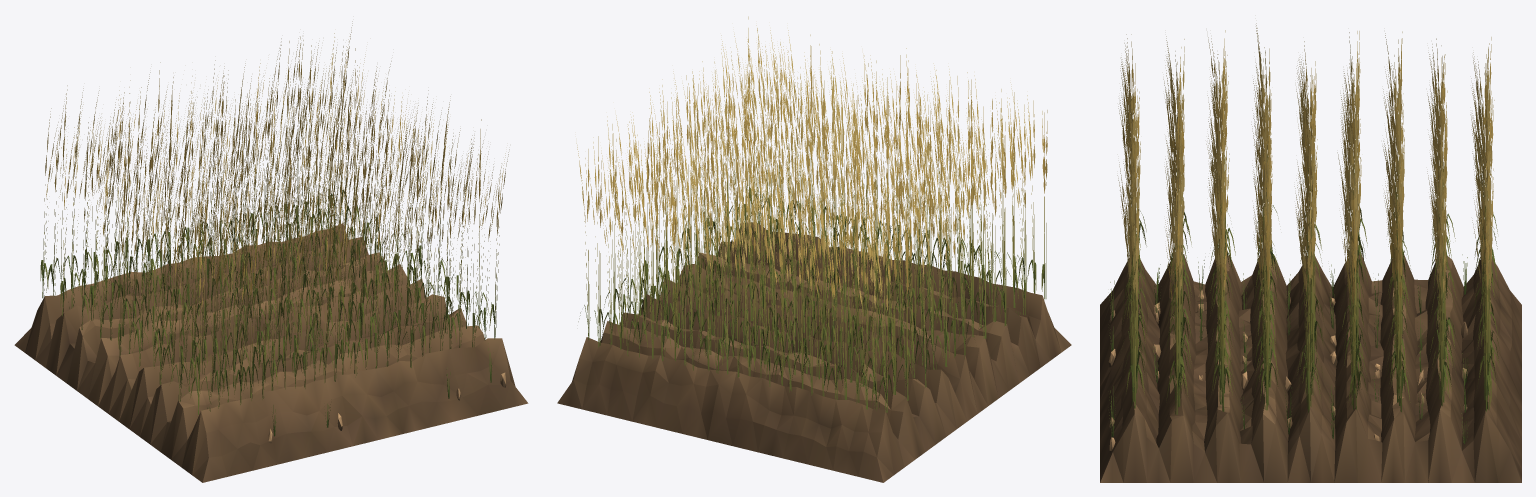
The model's file is field.glb.
3 renders of one model, left to right at view 1: azimuth 30°, elevation 25°; view 2: azimuth 150°, elevation 25°; view 3: azimuth 270°, elevation 25°, orthographic. The views are drawn at different scales.
Visible parts, largest first — view 1: field; view 2: field; view 3: field.
Part boxes in pixels (left/top/right/bottom): field: left=14, top=21, right=528, bottom=482; field: left=557, top=16, right=1071, bottom=482; field: left=1100, top=23, right=1521, bottom=482.
Bounding box in the file's own units: 1 × 0.7938 × 1.
